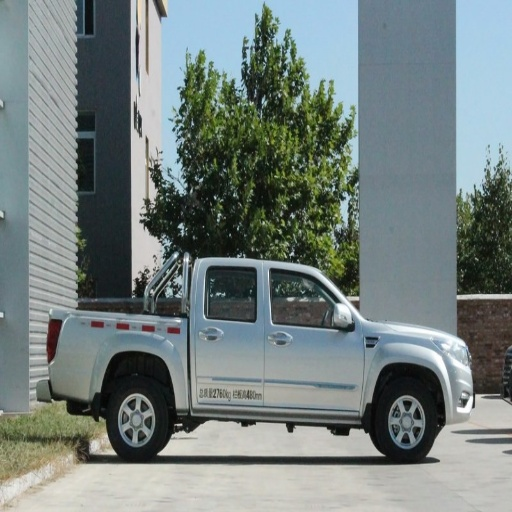back_right_door: (195, 263, 266, 402)
front_right_door: (265, 266, 364, 407)
trunk: (48, 311, 188, 409)
